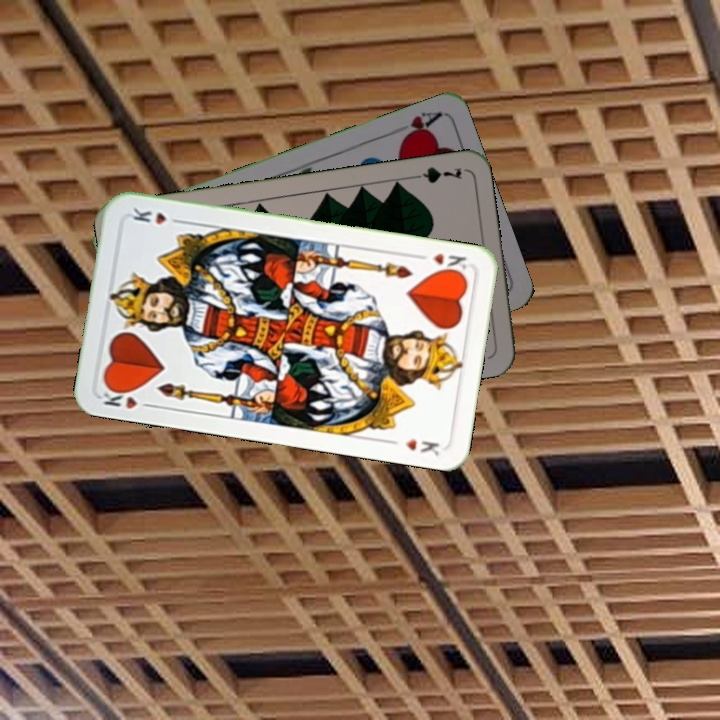G7: (405, 163, 465, 186)
HA: (396, 107, 443, 145)
HK: (99, 381, 156, 412), (429, 249, 469, 277)
